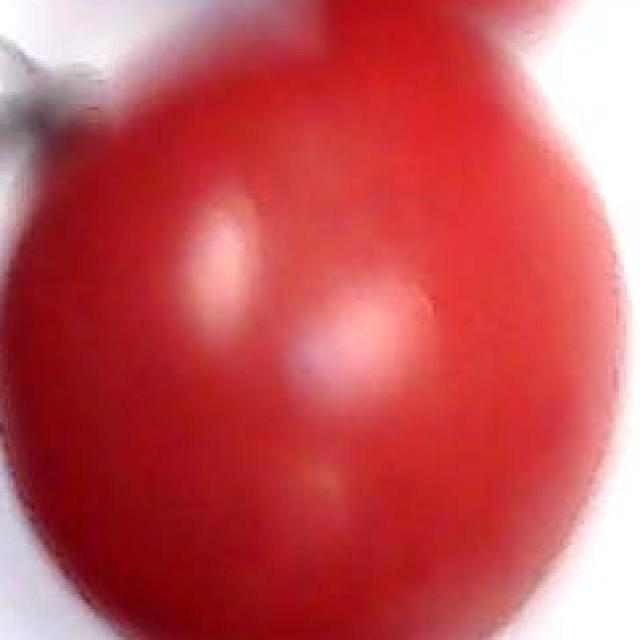Healthy Fruit: (8, 31, 416, 427)
